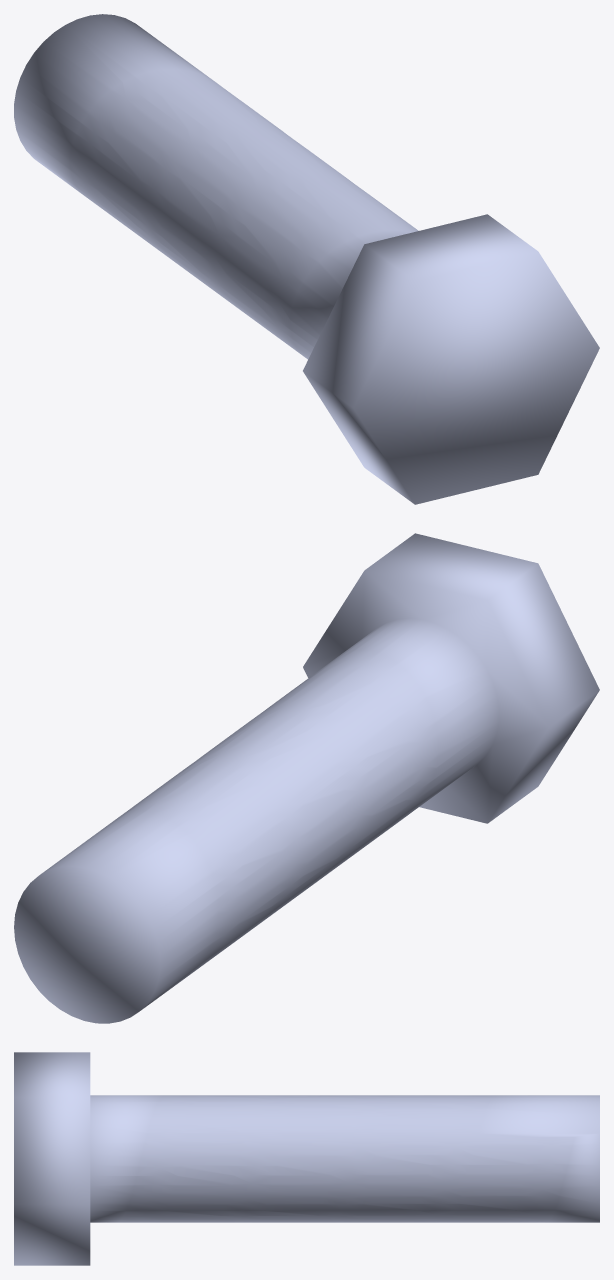
File: screw_collision_v3.obj
The picture shows the model from 3 angles, top to bottom: view 1: azimuth 30°, elevation 25°; view 2: azimuth 150°, elevation 25°; view 3: azimuth 270°, elevation 25°; orthographic projection. The views are drawn at different scales.
Size of the model in its own units: 0.042 by 0.0364 by 0.115.
